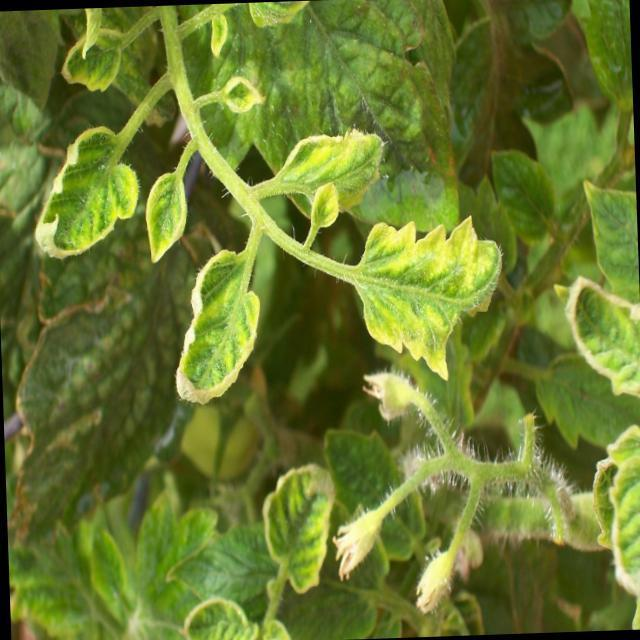Yellow Curl Virus: (348, 212, 514, 380), (17, 118, 144, 269), (161, 243, 264, 412), (275, 130, 388, 220), (262, 460, 338, 593), (565, 276, 640, 403), (56, 17, 126, 96), (134, 172, 192, 264), (608, 449, 640, 597), (174, 595, 258, 640), (218, 72, 266, 122)
